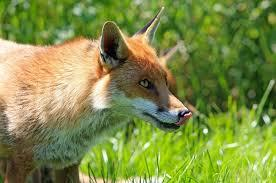fox: (0, 11, 242, 183)
